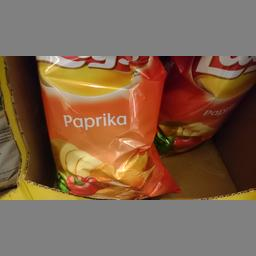chips: (34, 56, 178, 195), (161, 56, 255, 154)
